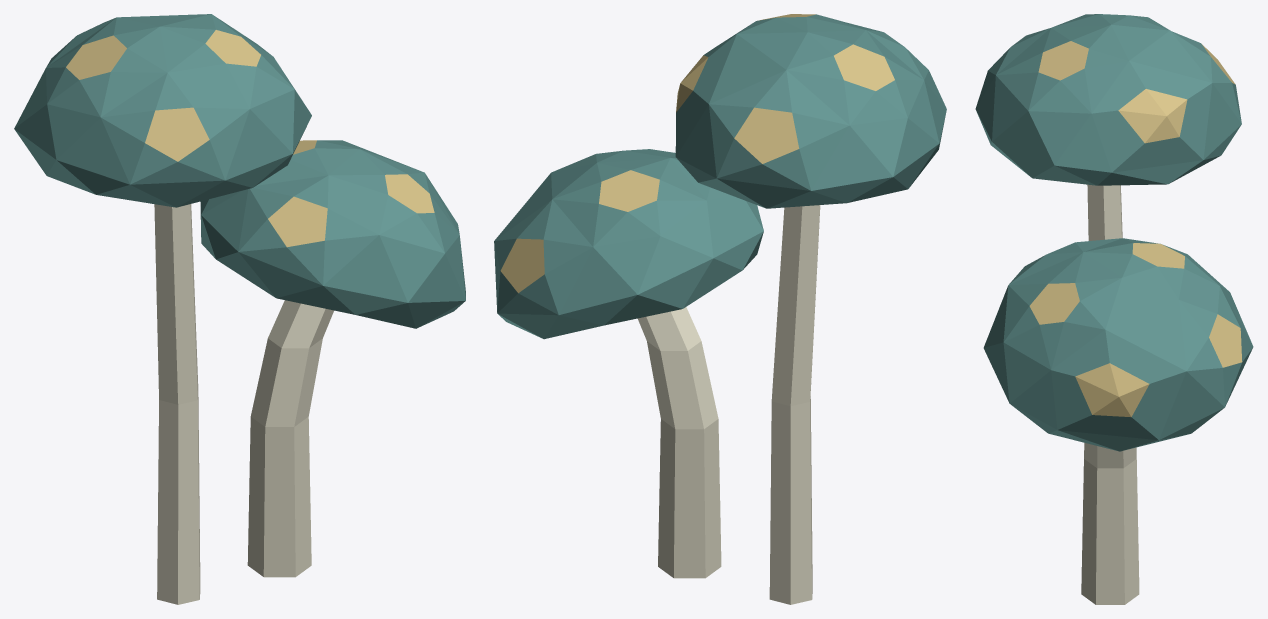
The model's file is resource__plant__mushroom_long.fbx.
The picture shows the model from 3 angles, left to right: view 1: azimuth 30°, elevation 25°; view 2: azimuth 150°, elevation 25°; view 3: azimuth 270°, elevation 25°; orthographic projection. The views are drawn at different scales.
Visible parts, largest first — view 1: Mushroom_long; view 2: Mushroom_long; view 3: Mushroom_long.
Part boxes in pixels (x1=…): Mushroom_long: x1=14, y1=14, x2=465, y2=604; Mushroom_long: x1=494, y1=14, x2=946, y2=604; Mushroom_long: x1=975, y1=14, x2=1253, y2=604.
Bounding box in the file's own units: 84.8 × 112 × 54.34.
